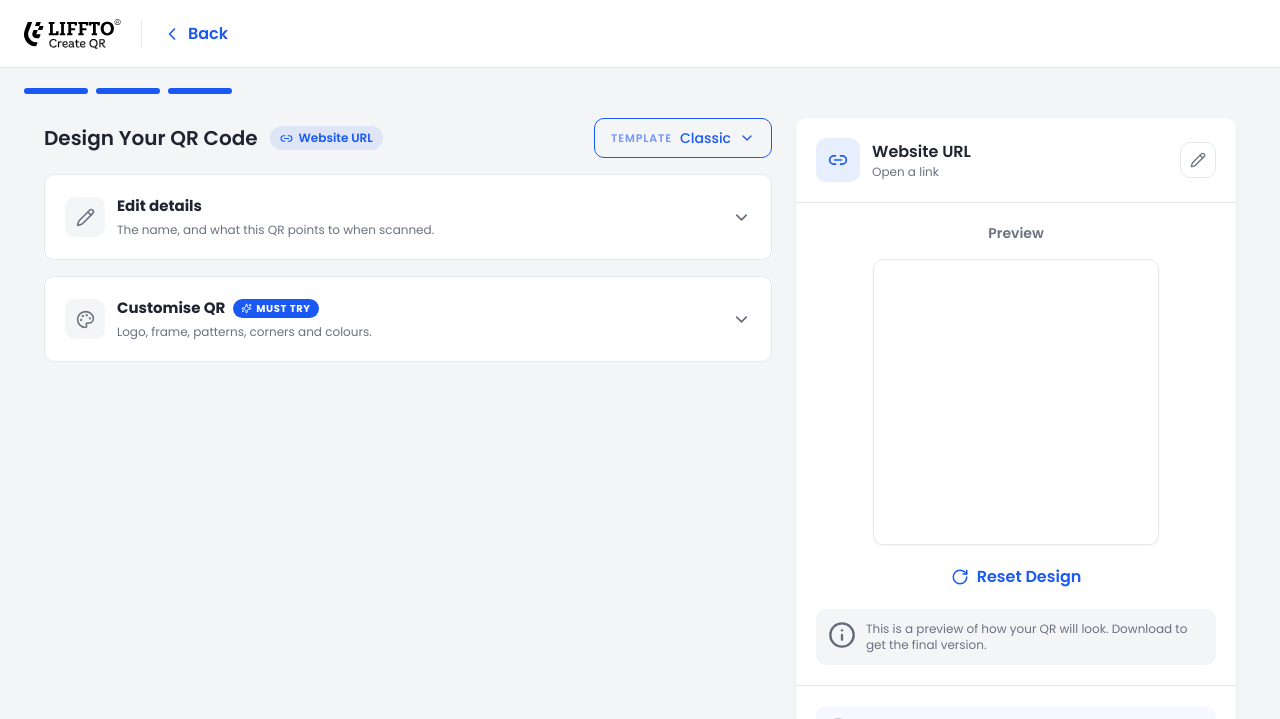
it: the design page, split in two › shows the content fields when details is opened
Expected: the heading "Edit details" is shown, top-left (117, 195), bottom-right (202, 218)
Click the button that starts with "Edit details". click: click(85, 217)
box: top-left (45, 175), bottom-right (771, 259)
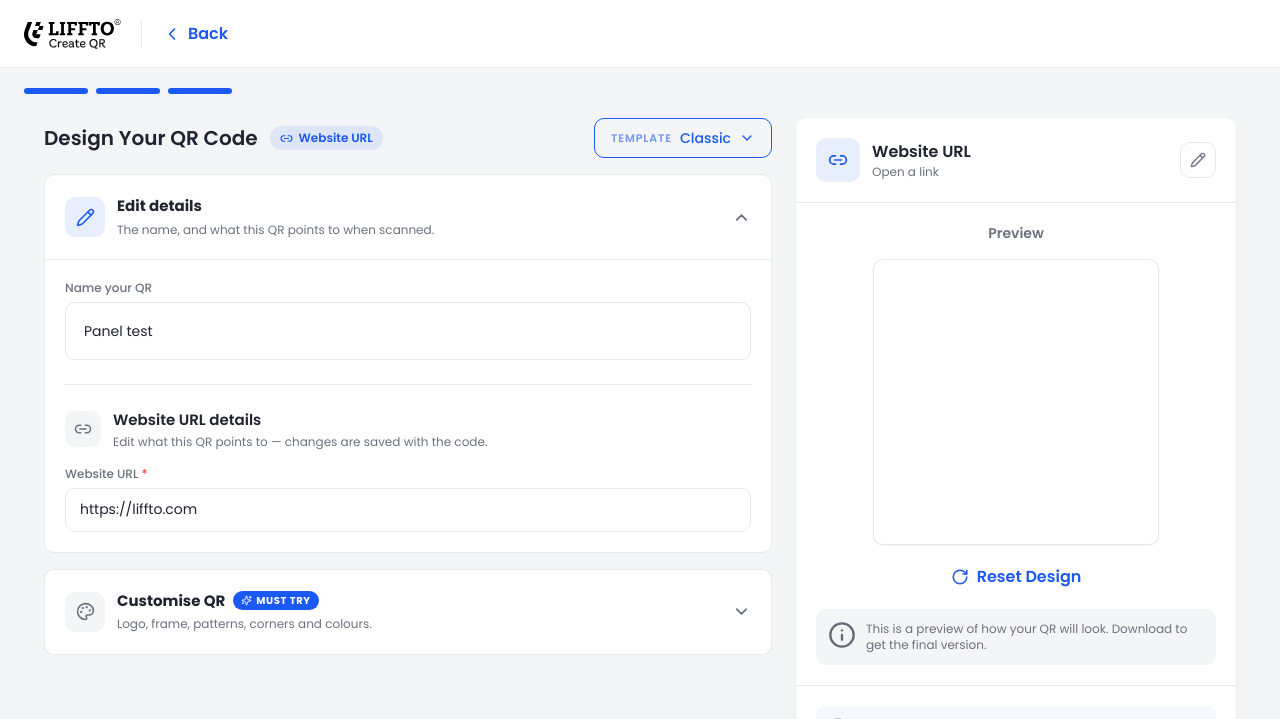
Result: the field with placeholder "e.g. Summer Sale Promo" is shown at top-left (72, 309), bottom-right (744, 353)
Result: the field showing "https://liffto.com" is shown at top-left (65, 488), bottom-right (751, 532)
